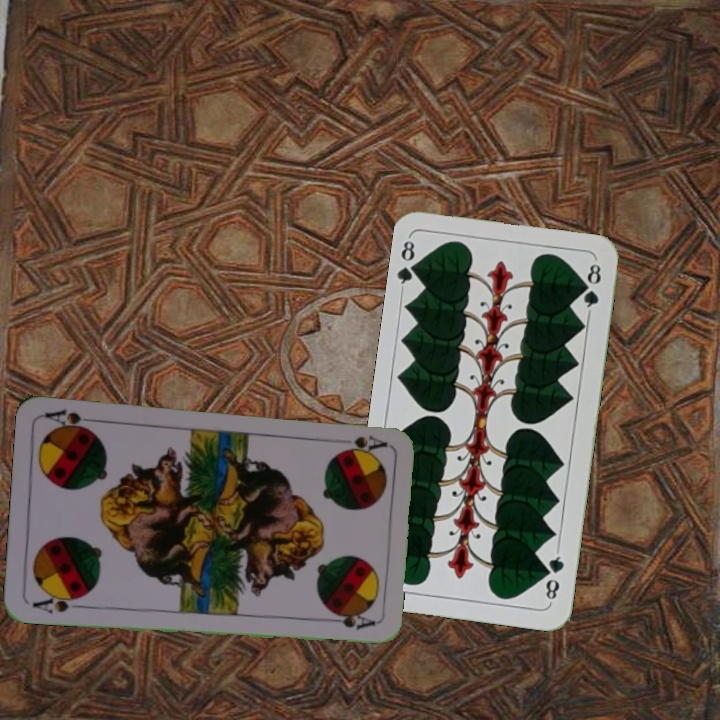G8: (394, 234, 424, 293), (541, 546, 567, 605)
SA: (29, 589, 87, 617), (346, 431, 389, 453)
